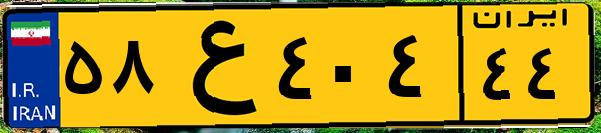0: (330, 28, 385, 110)
4: (270, 28, 330, 110), (385, 28, 445, 110), (475, 38, 525, 113), (525, 38, 570, 115)
5: (57, 26, 110, 100)
8: (110, 28, 158, 98)
ع: (158, 12, 270, 120)
